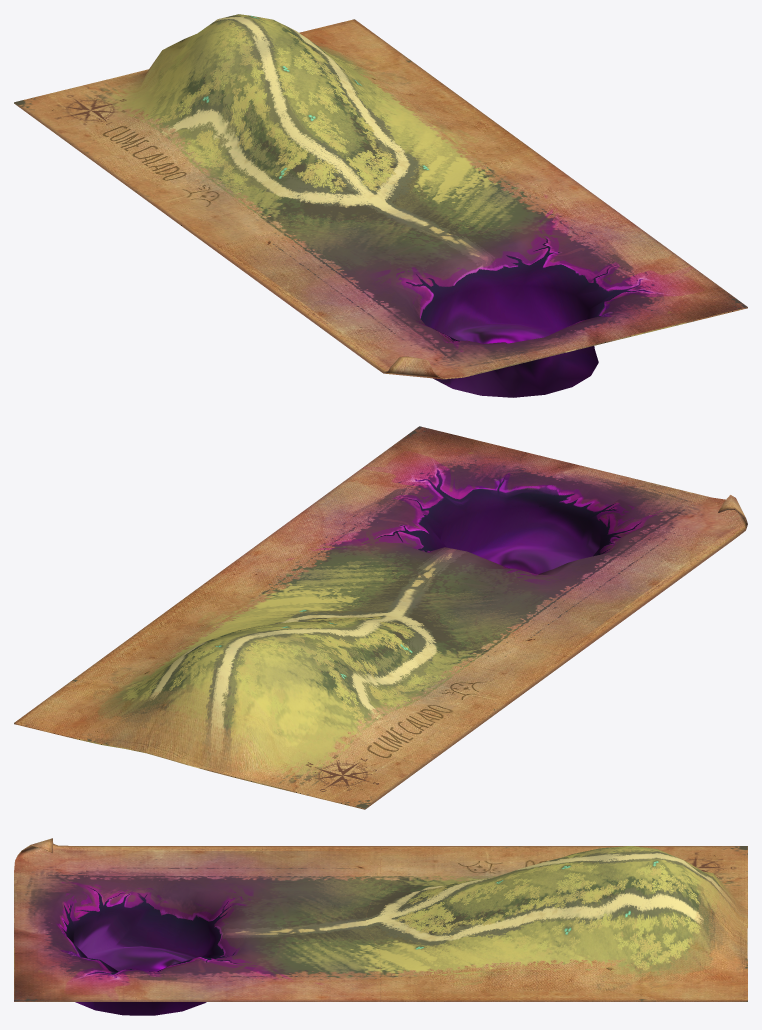
The model's file is SM_Fase_C.fbx.
The picture shows the model from 3 angles, top to bottom: view 1: azimuth 30°, elevation 25°; view 2: azimuth 150°, elevation 25°; view 3: azimuth 270°, elevation 25°; orthographic projection. The views are drawn at different scales.
Parts seen in each view (by area): view 1: SM_Fase_C; view 2: SM_Fase_C; view 3: SM_Fase_C.
Part boxes in pixels (box(x1,y1,x2,y2)): SM_Fase_C: box(14, 14, 747, 397); SM_Fase_C: box(14, 426, 747, 809); SM_Fase_C: box(14, 838, 747, 1015).
Size of the model in its own units: 26134 by 10545 by 52263.
